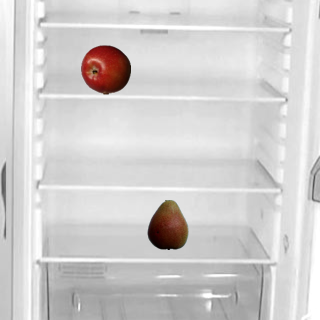Apple Braeburn: (80, 44, 130, 94)
Pear Forelle: (142, 199, 192, 249)
